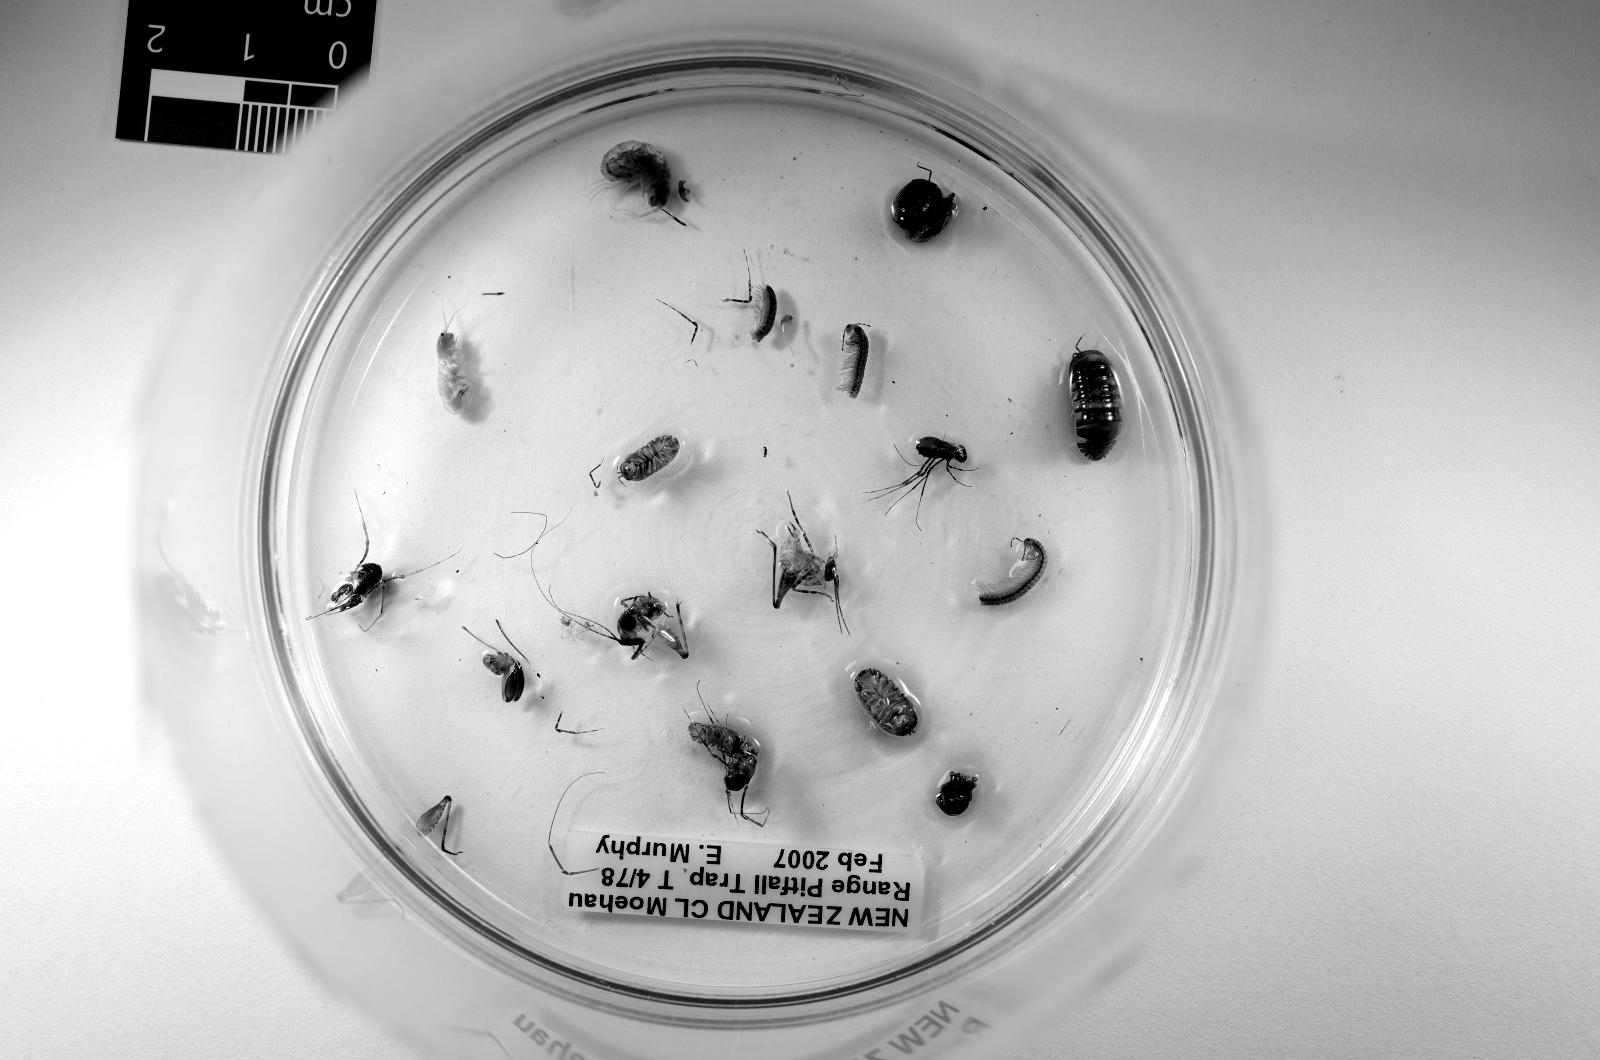amphipoda: (603, 140, 672, 208), (438, 329, 472, 413)
diplopoda: (978, 537, 1047, 606)
hymenoptera: (762, 447, 769, 457)
isopoda: (1069, 351, 1122, 460), (856, 668, 919, 736), (619, 435, 678, 481), (841, 323, 869, 398), (688, 724, 744, 755), (753, 286, 778, 342)
opiliones: (325, 519, 419, 615), (872, 435, 969, 500), (481, 649, 525, 702), (725, 748, 756, 823), (934, 773, 978, 817)
orthoptera: (766, 512, 847, 630), (616, 593, 688, 658)
